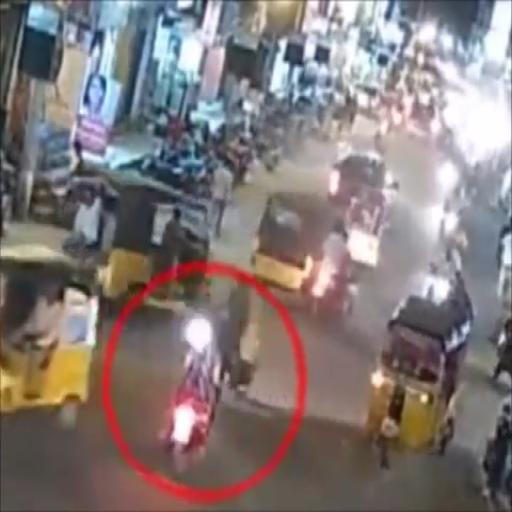小汽车: (0, 248, 96, 432), (364, 296, 466, 466), (103, 178, 213, 310), (253, 192, 311, 302)
自行车: (166, 319, 222, 473)
